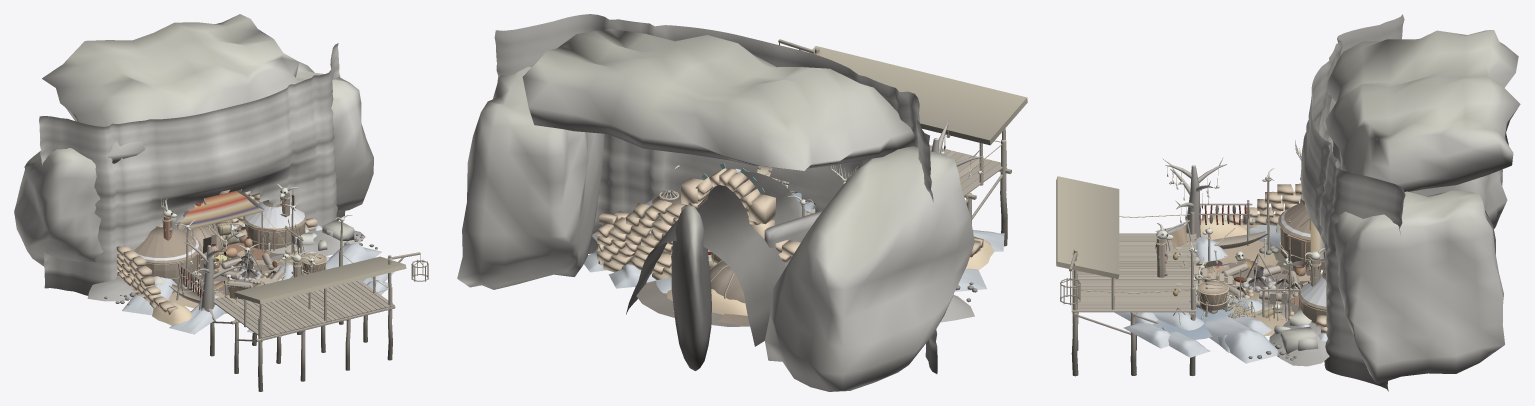
Rendered from ork_camps.glb.
3 renders of one model, left to right at view 1: azimuth 30°, elevation 25°; view 2: azimuth 150°, elevation 25°; view 3: azimuth 270°, elevation 25°, orthographic. The views are drawn at different scales.
Parts seen in each view (by area): view 1: ork_camp_cave, ork_camp_stilts, ork_camp_hunters, ork_camp_raiders, ork_camp_shaman; view 2: ork_camp_cave, ork_camp_stilts, ork_camp_raiders, ork_camp_hunters, ork_camp_shaman; view 3: ork_camp_cave, ork_camp_stilts, ork_camp_hunters, ork_camp_raiders, ork_camp_shaman.
Part boxes in pixels (left/top/right/bottom): ork_camp_cave: left=14, top=14, right=377, bottom=305; ork_camp_stilts: left=169, top=215, right=428, bottom=391; ork_camp_hunters: left=122, top=198, right=394, bottom=336; ork_camp_raiders: left=116, top=189, right=327, bottom=325; ork_camp_shaman: left=161, top=184, right=327, bottom=321; ork_camp_cave: left=457, top=14, right=977, bottom=391; ork_camp_stilts: left=758, top=39, right=1027, bottom=267; ork_camp_raiders: left=597, top=163, right=993, bottom=315; ork_camp_hunters: left=584, top=165, right=1004, bottom=293; ork_camp_shaman: left=674, top=113, right=983, bottom=303; ork_camp_cave: left=1193, top=14, right=1520, bottom=391; ork_camp_stilts: left=1056, top=176, right=1324, bottom=376; ork_camp_hunters: left=1114, top=138, right=1329, bottom=363; ork_camp_raiders: left=1186, top=183, right=1327, bottom=335; ork_camp_shaman: left=1155, top=140, right=1324, bottom=319.
Size of the model in its own units: 17.42 by 11.49 by 17.88.
